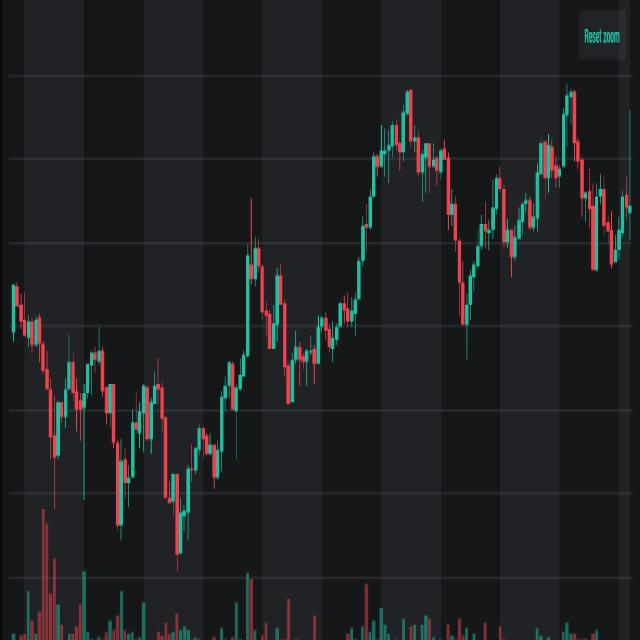Rising-Wedge: (449, 70, 591, 381)
